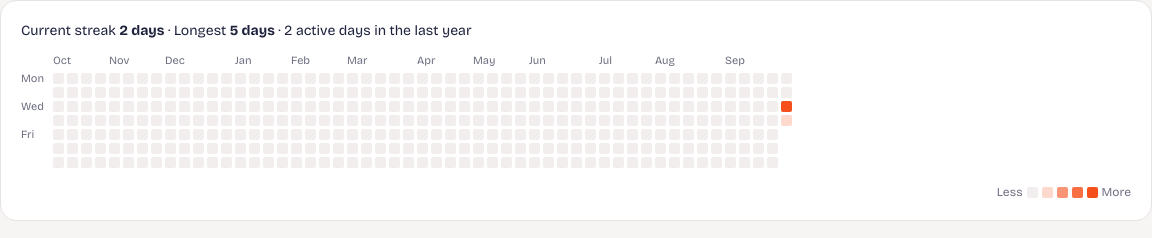
shows streaks, shaded days and a tooltip, and links each day
This screenshot has width=1152, height=238.
Hover over the link named "Wed 7 Oct 2026 · 14 questions · 20 flashcards (31 or more)" at (786, 106), box left=781, top=101, right=792, bottom=112
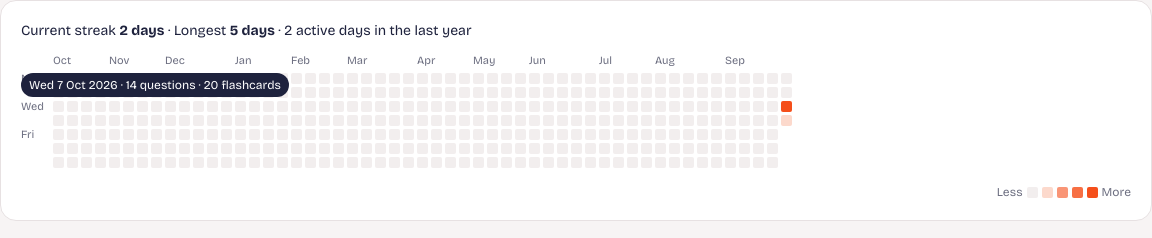
Check: the tooltip reads "Wed 7 Oct 2026 · 14 questions · 20 flashcards", box left=29, top=78, right=281, bottom=92
